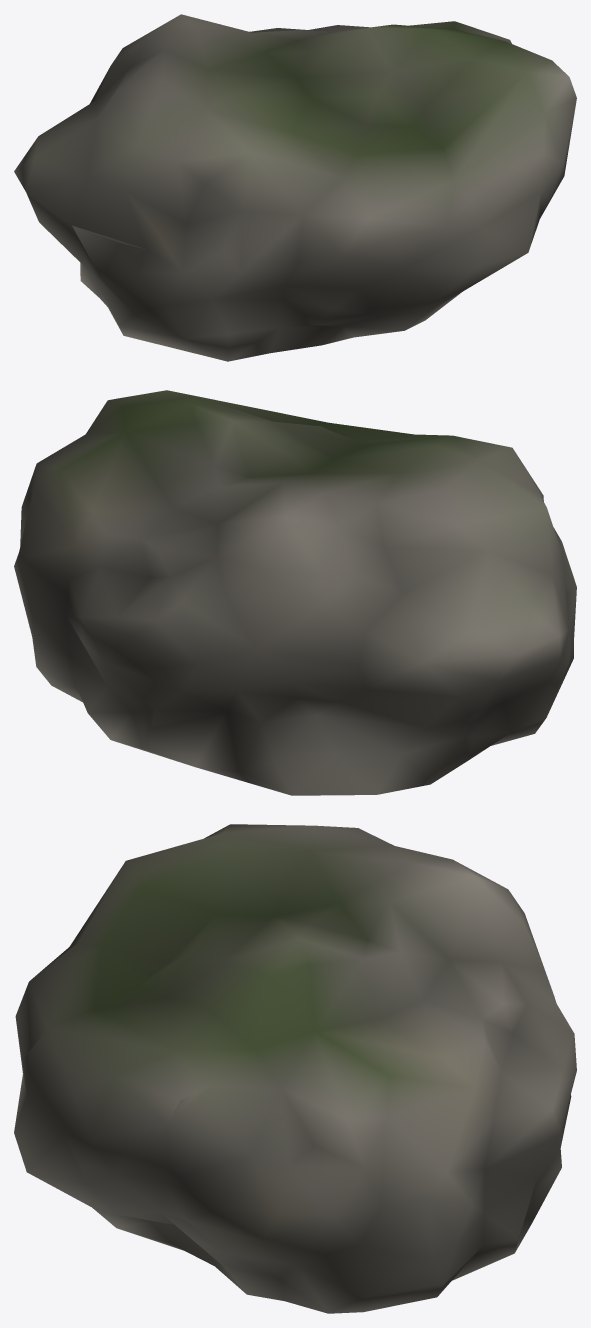
File: boulder_round.glb
3 views of the same model, one above another, from view 1: azimuth 30°, elevation 25°; view 2: azimuth 150°, elevation 25°; view 3: azimuth 270°, elevation 25° (orthographic). The views are drawn at different scales.
Parts seen in each view (by area): view 1: boulder_round; view 2: boulder_round; view 3: boulder_round.
Boxes of the visible parts, x1=… form: boulder_round: x1=14, y1=14, x2=576, y2=361; boulder_round: x1=14, y1=390, x2=576, y2=795; boulder_round: x1=14, y1=824, x2=576, y2=1313.
Bounding box in the file's own units: 1.45 × 0.6822 × 1.12.
